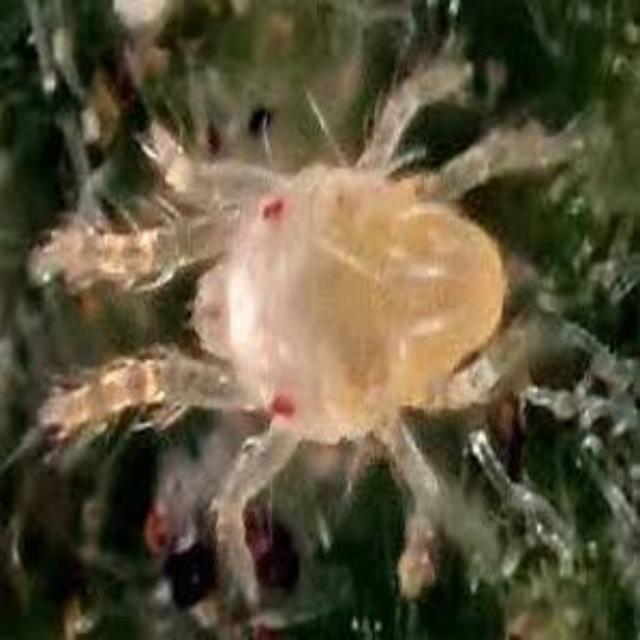spider mite: (31, 46, 588, 610)
